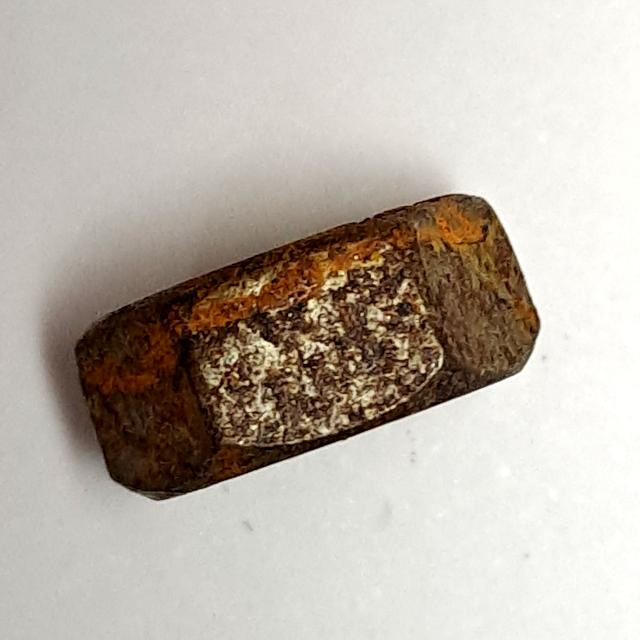Side_Rust: (59, 164, 550, 520)
